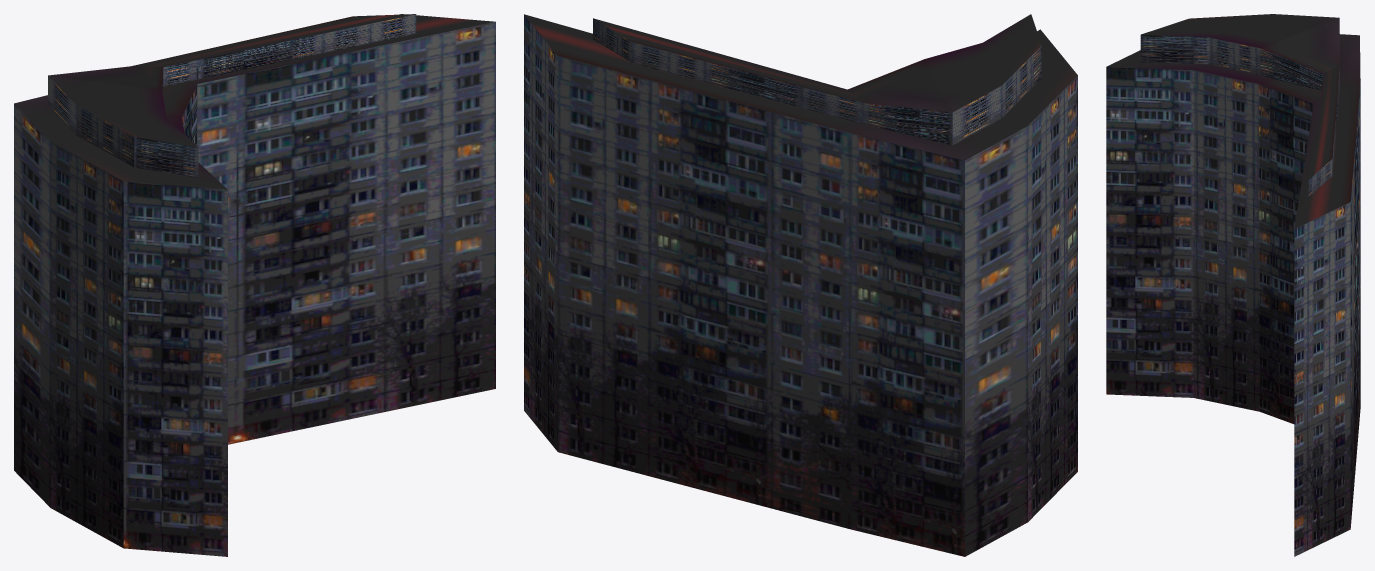
Rendered from house05.glb.
3 renders of one model, left to right at view 1: azimuth 30°, elevation 25°; view 2: azimuth 150°, elevation 25°; view 3: azimuth 270°, elevation 25°, orthographic. The views are drawn at different scales.
Visible parts, largest first — view 1: house05; view 2: house05; view 3: house05.
Part boxes in pixels (x1,y1,x2,y2): house05: [14, 14, 495, 556]; house05: [524, 14, 1077, 556]; house05: [1106, 14, 1360, 556].
Size of the model in its own units: 9.88 by 8.24 by 5.34.
Materials: 2 (2 with a texture image).
